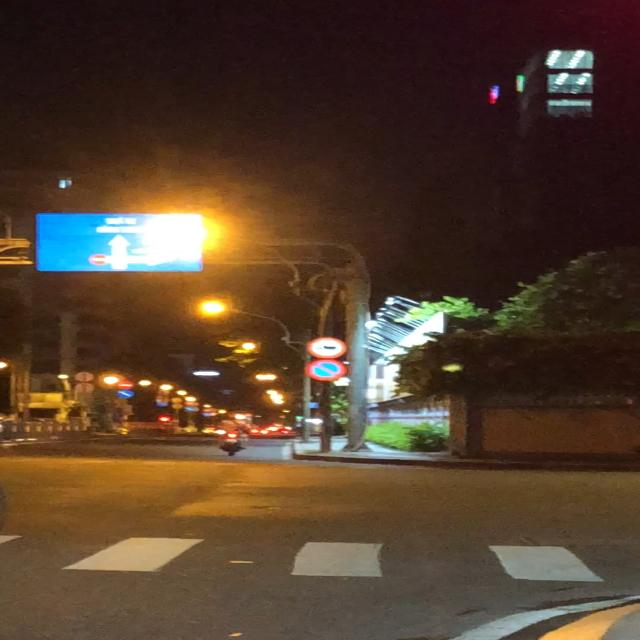Bien bao cam do xe: (300, 359, 351, 384)
Bien bao cam xe so-mi ro-mooc: (304, 335, 356, 361)
